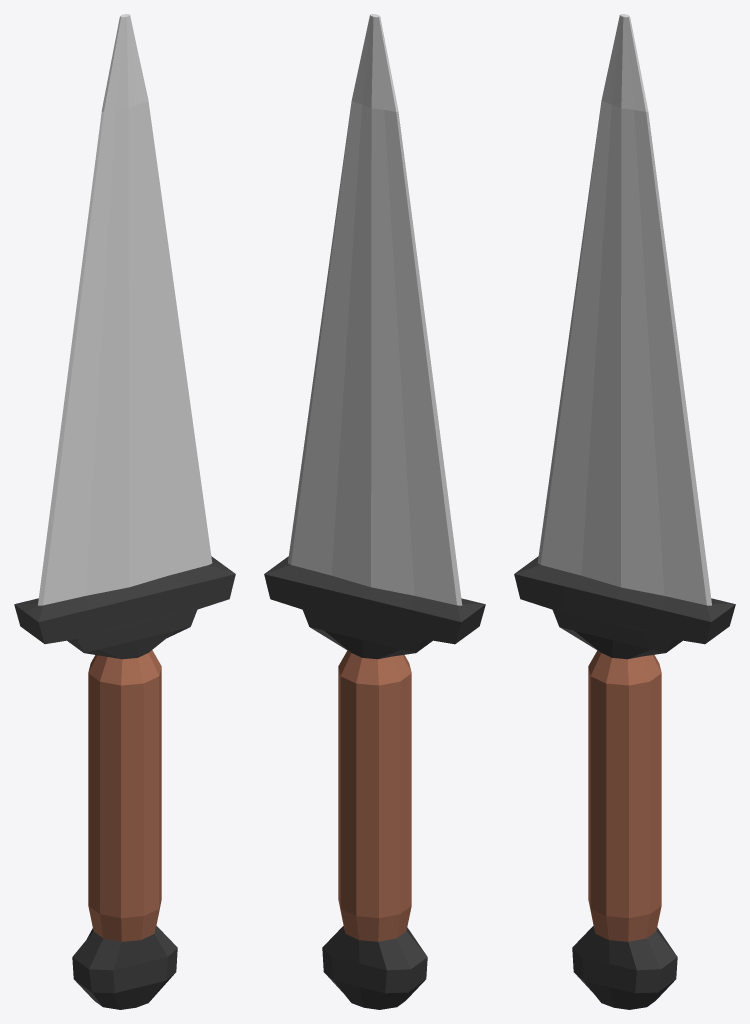
Rendered from Dagger.fbx.
The picture shows the model from 3 angles, left to right: view 1: azimuth 30°, elevation 25°; view 2: azimuth 150°, elevation 25°; view 3: azimuth 330°, elevation 25°; orthographic projection.
Visible parts, largest first — view 1: Sword Dagger.001; view 2: Sword Dagger.001; view 3: Sword Dagger.001.
Part boxes in pixels (x1,y1,x2,y2): Sword Dagger.001: (14, 14, 235, 1009); Sword Dagger.001: (264, 14, 485, 1009); Sword Dagger.001: (514, 14, 735, 1009).
Size of the model in its own units: 14.75 by 70.32 by 4.87.
